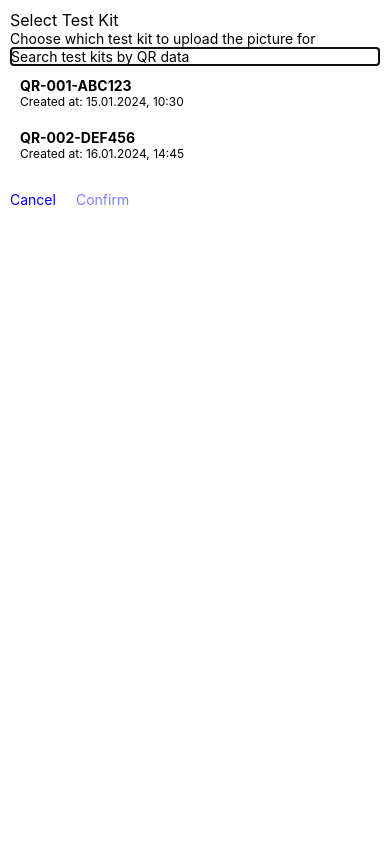
Test: TestSelectModal › Search functionality › should be case insensitive
Check: the text "QR-001-ABC123" is shown, box [20, 77, 132, 94]
Type "abc123" into the field with placeholder "Search test kits by QR data" at {"x": 195, "y": 56}, box [10, 47, 380, 66]
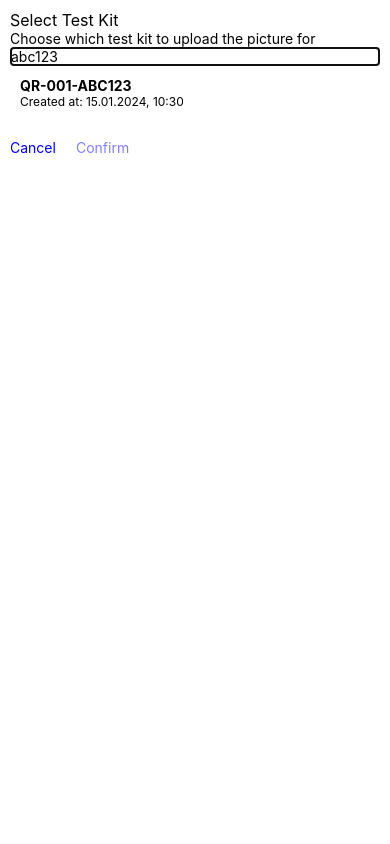
Check: the text "QR-001-ABC123" is shown, box [20, 77, 132, 94]
Check: the text "QR-002-DEF456" is gone
